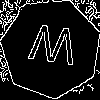W: (26, 23, 79, 75)
